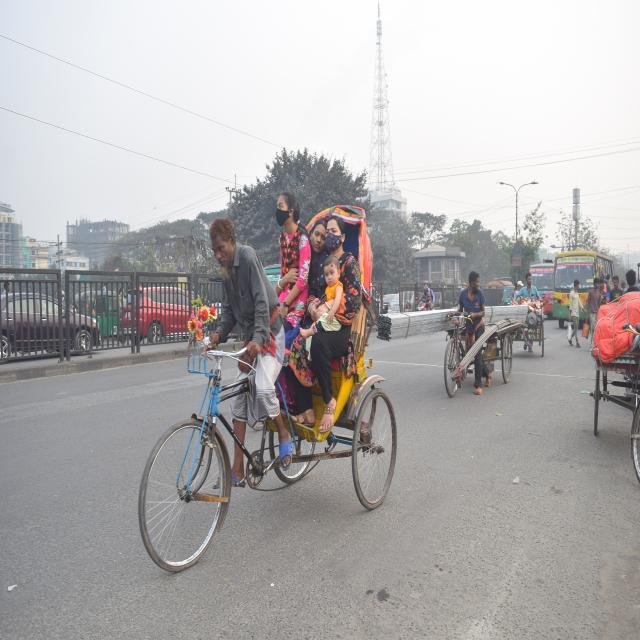bus: (551, 232, 626, 362), (525, 243, 570, 334)
car: (117, 271, 222, 364), (1, 283, 110, 371)
motorbike: (416, 280, 456, 317)
